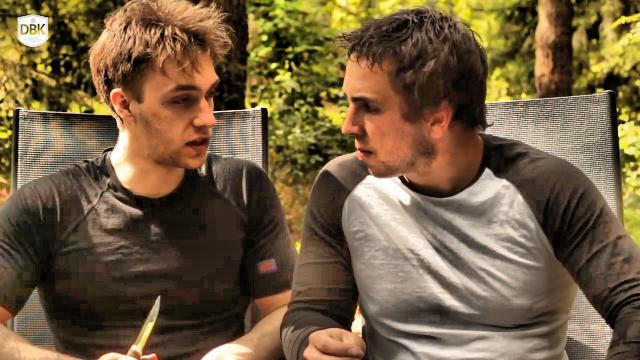knife: (111, 288, 172, 360)
